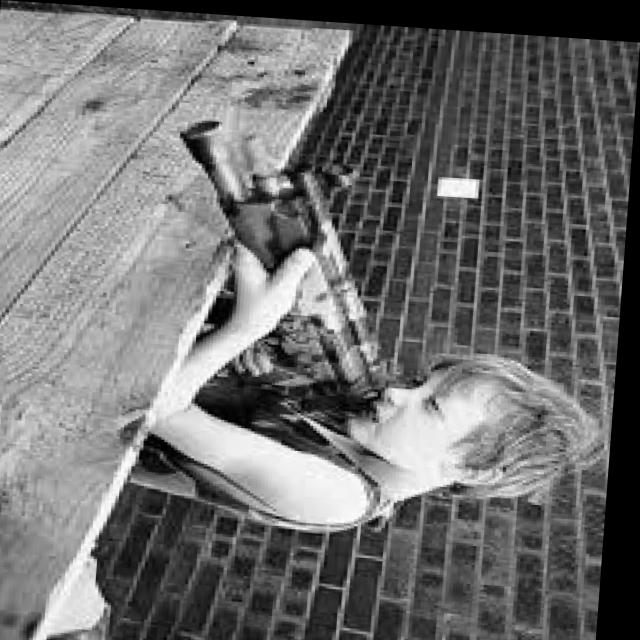rifle: (173, 120, 429, 402)
